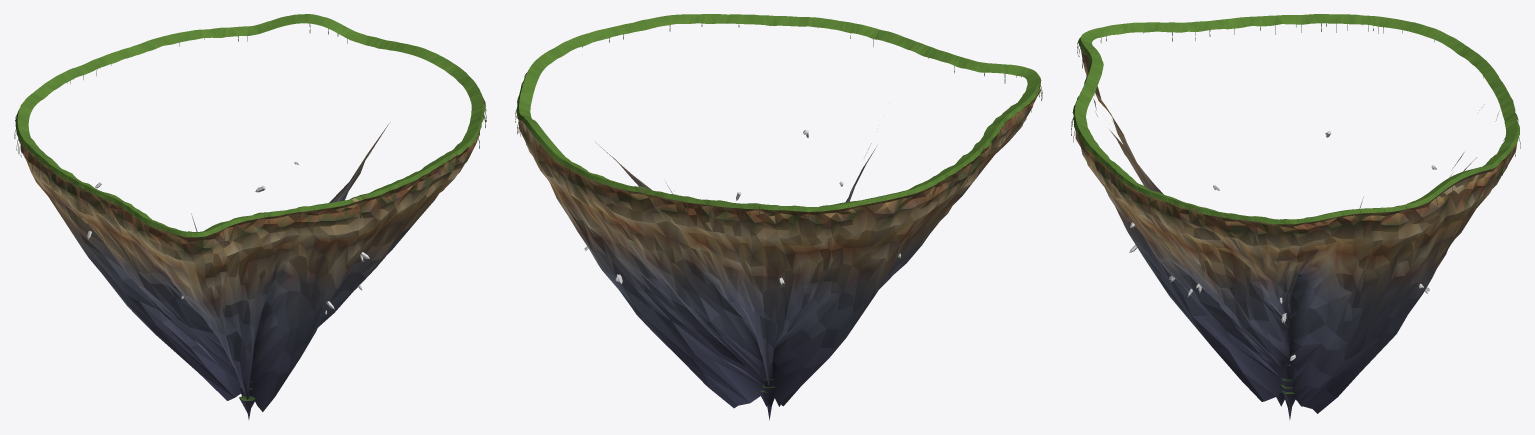
Rendered from IslandRock.glb.
3 views of the same model, side by side, from view 1: azimuth 30°, elevation 25°; view 2: azimuth 150°, elevation 25°; view 3: azimuth 270°, elevation 25° (orthographic). The views are drawn at different scales.
Parts seen in each view (by area): view 1: Rock, RockVines; view 2: Rock, RockVines; view 3: Rock, RockVines.
Part boxes in pixels (left/top/right/bottom): Rock: left=15, top=14, right=485, bottom=419; RockVines: left=14, top=24, right=486, bottom=246; Rock: left=516, top=14, right=1041, bottom=420; RockVines: left=515, top=23, right=1042, bottom=224; Rock: left=1072, top=14, right=1519, bottom=419; RockVines: left=1071, top=23, right=1520, bottom=236.
Size of the model in its own units: 291 by 209 by 265.
